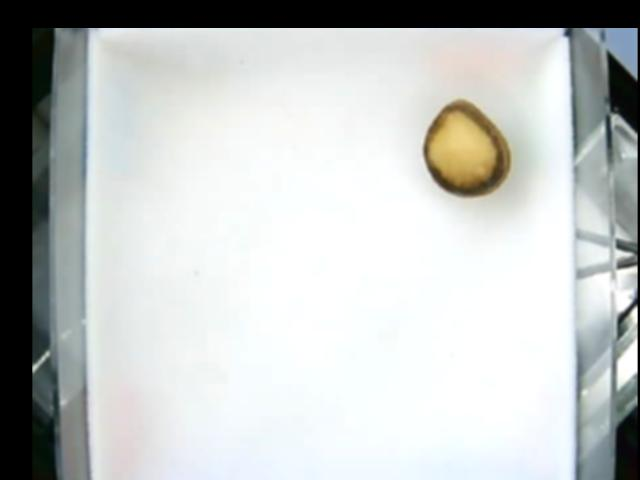Potato: (421, 95, 512, 202)
